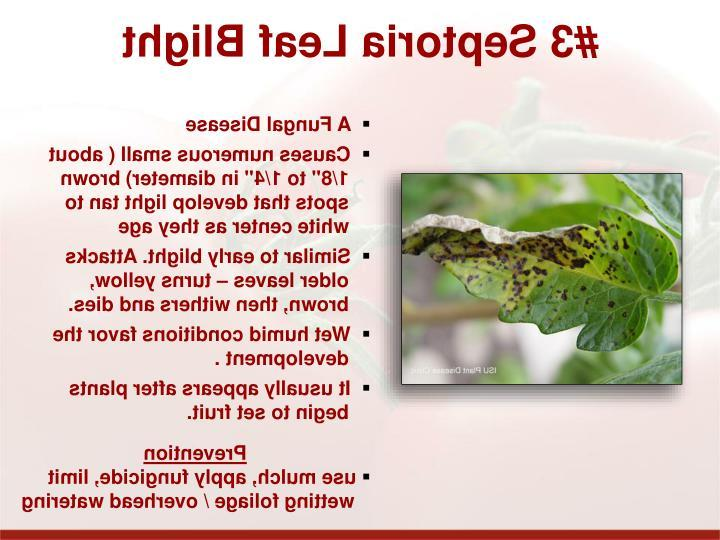Tomato Septoria leaf spot: (406, 209, 671, 363)
